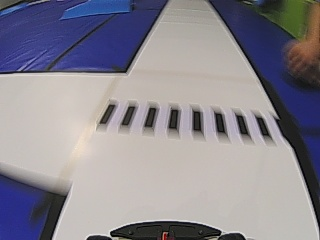CrossWalk: (93, 101, 270, 139)
